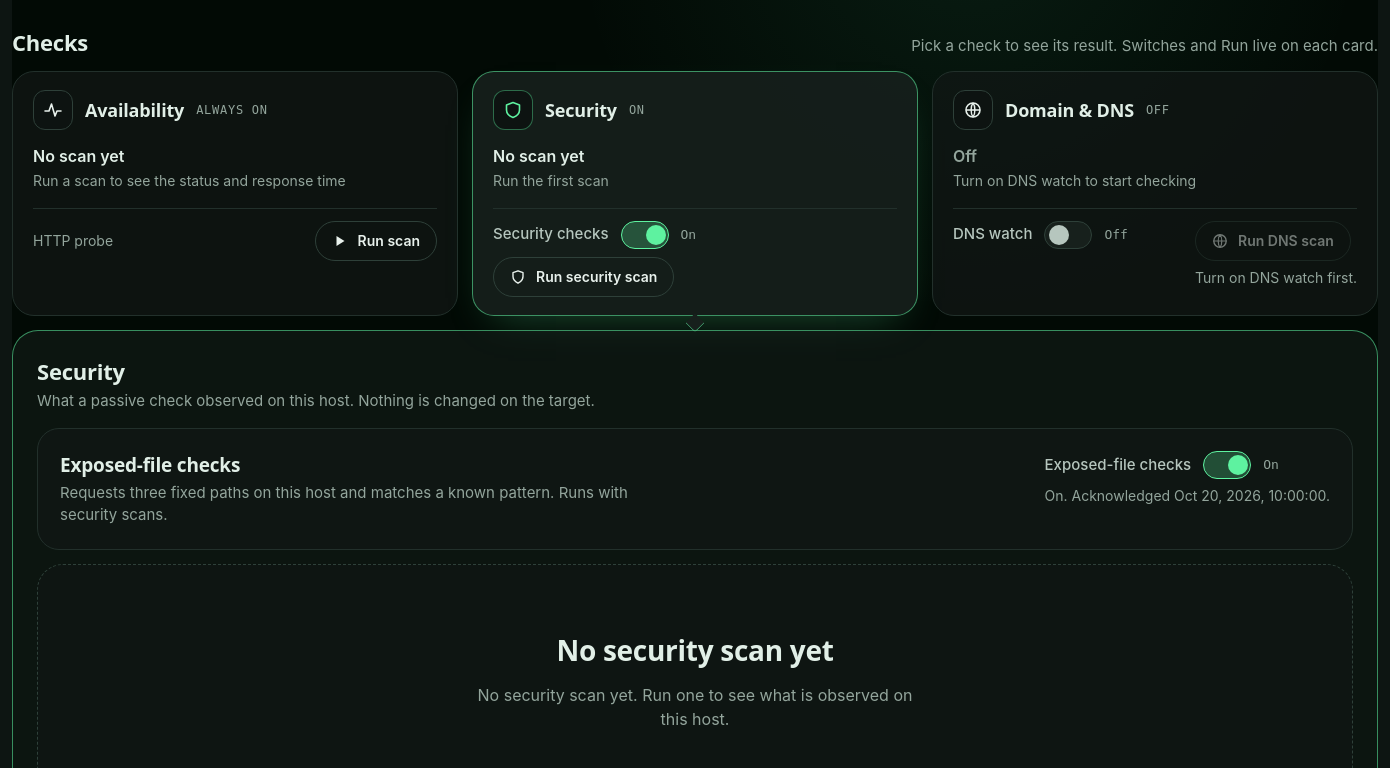
Test: Exposed-file checks › turns off without a dialog and sends only the switch
Click the 3rd switch named "Exposed-file checks": click(1227, 465) [1203,451,1251,479]
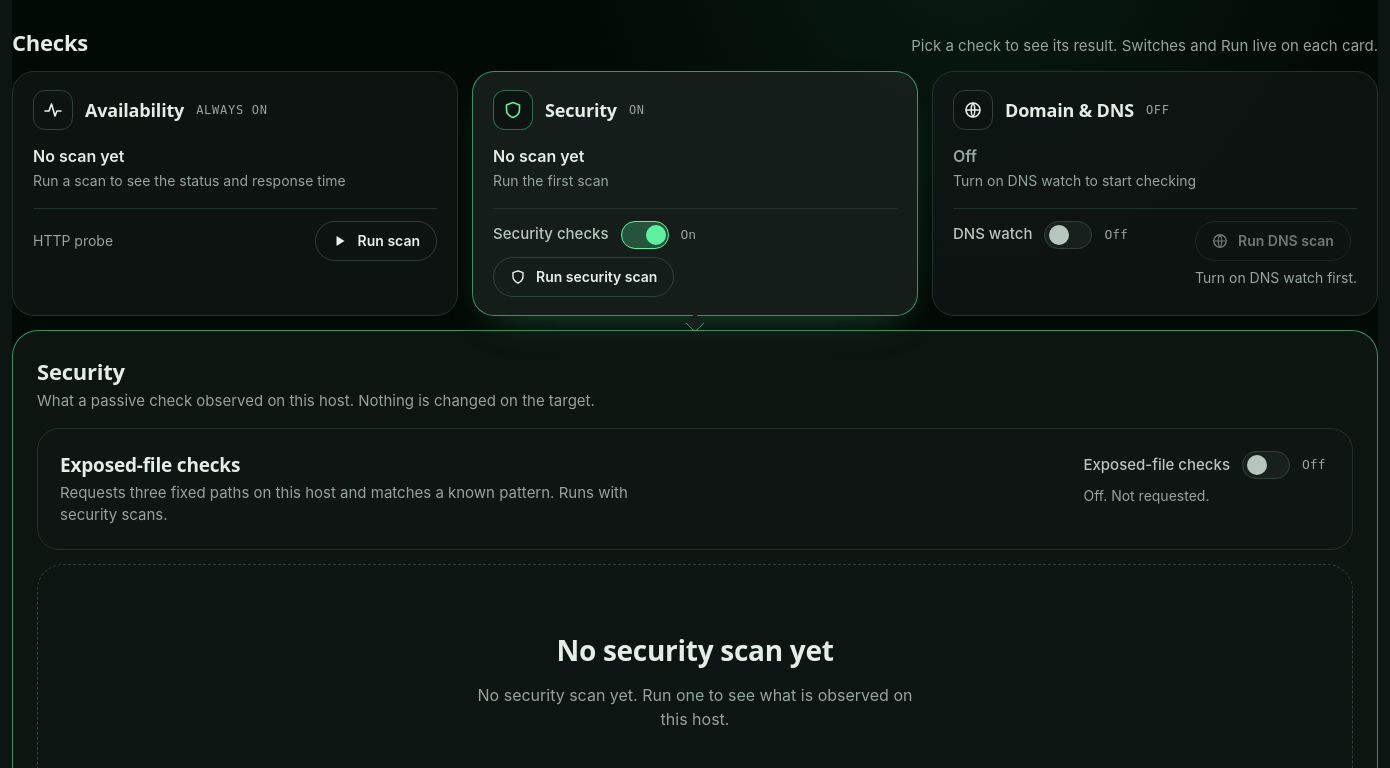
Check: the text with test id "path-probes-state" reads "Off. Not requested.", box [1083,487,1209,504]
